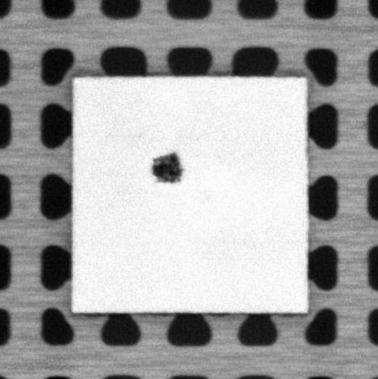DIE_INK: (150, 151, 184, 186)
